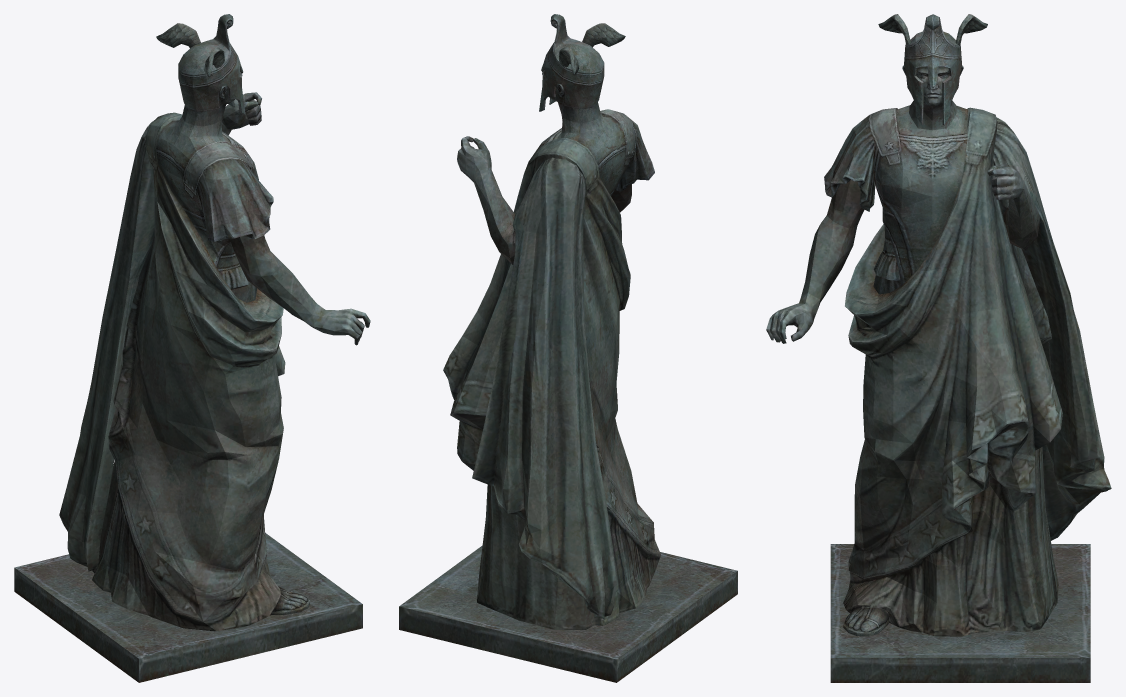
Rendered from bg_lut_lucastle_herostatue11_sm_artree.FBX.
The picture shows the model from 3 angles, left to right: view 1: azimuth 30°, elevation 25°; view 2: azimuth 150°, elevation 25°; view 3: azimuth 270°, elevation 25°; orthographic projection. The views are drawn at different scales.
Visible parts, largest first — view 1: bg_lut_lucastle_herostatue11_sm_artree; view 2: bg_lut_lucastle_herostatue11_sm_artree; view 3: bg_lut_lucastle_herostatue11_sm_artree.
Boxes of the visible parts, x1=… form: bg_lut_lucastle_herostatue11_sm_artree: x1=14, y1=14, x2=370, y2=682; bg_lut_lucastle_herostatue11_sm_artree: x1=399, y1=14, x2=737, y2=682; bg_lut_lucastle_herostatue11_sm_artree: x1=766, y1=14, x2=1111, y2=682.
Bounding box in the file's own units: 138 × 352 × 177.
